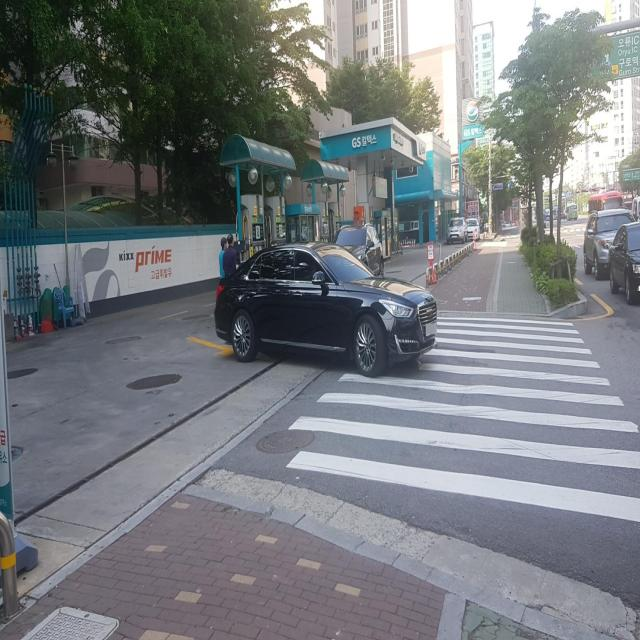횡단보도: (284, 315, 640, 523)
